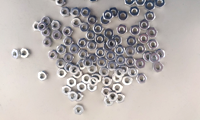nut: (117, 25, 128, 36), (155, 49, 166, 60), (153, 62, 164, 73), (38, 71, 49, 82), (20, 48, 31, 59), (74, 105, 85, 116), (103, 10, 114, 21), (99, 67, 110, 78), (106, 51, 117, 62), (115, 45, 126, 56), (125, 57, 136, 68), (128, 67, 139, 78), (122, 76, 133, 87), (102, 76, 113, 87), (126, 37, 138, 47), (106, 39, 118, 49), (115, 67, 125, 79), (145, 0, 155, 11), (145, 12, 156, 22), (140, 20, 150, 31), (147, 28, 158, 38), (130, 26, 141, 36), (118, 11, 129, 21), (139, 34, 150, 44), (148, 40, 159, 50), (150, 53, 160, 64), (144, 52, 154, 63), (135, 45, 146, 55), (60, 7, 71, 17), (63, 27, 74, 37), (71, 7, 81, 18), (87, 15, 98, 25), (79, 23, 90, 33), (42, 38, 53, 48), (48, 50, 58, 61), (78, 38, 88, 49), (93, 24, 104, 34), (87, 41, 98, 51), (69, 65, 80, 75), (83, 58, 93, 69), (67, 77, 77, 88), (82, 74, 92, 85), (95, 35, 106, 45), (97, 57, 107, 68), (116, 55, 126, 66), (119, 65, 130, 75), (135, 59, 146, 69), (136, 74, 147, 84), (106, 51, 116, 62), (112, 74, 123, 84), (107, 92, 118, 102), (130, 7, 140, 17), (81, 8, 91, 18), (72, 18, 82, 28), (41, 17, 51, 27), (52, 30, 62, 40), (57, 45, 67, 55), (56, 59, 66, 69), (70, 45, 80, 55), (64, 37, 74, 47), (86, 31, 96, 41), (77, 83, 87, 93), (62, 86, 72, 96), (68, 92, 78, 102), (89, 77, 99, 87), (104, 29, 114, 39), (96, 49, 106, 59), (112, 36, 122, 46), (126, 47, 136, 57), (102, 87, 112, 97), (113, 84, 123, 94), (115, 94, 125, 104), (107, 61, 117, 71), (78, 50, 89, 59), (12, 49, 21, 59), (38, 22, 47, 32), (51, 21, 61, 30), (64, 54, 74, 63), (57, 69, 67, 78), (77, 60, 86, 70), (88, 65, 98, 74), (73, 70, 83, 79), (88, 83, 97, 93), (74, 93, 84, 102), (92, 74, 102, 83), (88, 54, 98, 63), (109, 8, 119, 17), (101, 17, 111, 26), (104, 98, 114, 107), (33, 22, 42, 31), (104, 43, 113, 52), (65, 63, 73, 73), (155, 1, 166, 8), (42, 29, 51, 37), (56, 0, 66, 7), (125, 0, 135, 6), (136, 0, 146, 6), (88, 0, 99, 3)
